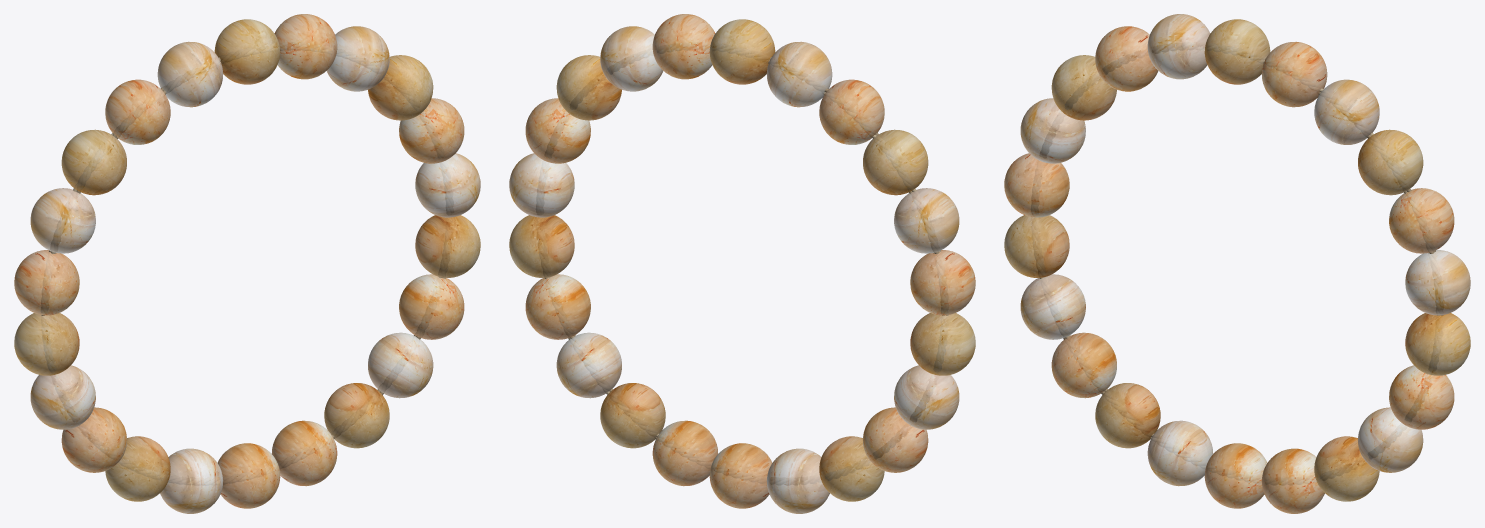
The model's file is citrine.glb.
3 renders of one model, left to right at view 1: azimuth 30°, elevation 25°; view 2: azimuth 150°, elevation 25°; view 3: azimuth 330°, elevation 25°, orthographic.
Parts seen in each view (by area): view 1: Braided thread, 10 yellow, 8 yellow, 9 yellow, 20 yellow, 21 yellow, 19 yellow, 11 yellow, 7 yellow, 22 yellow, 12 yellow, 6 yellow (+11 smaller); view 2: Braided thread, 10 yellow, 8 yellow, 9 yellow, 20 yellow, 21 yellow, 19 yellow, 11 yellow, 7 yellow, 22 yellow, 12 yellow, 6 yellow (+11 smaller); view 3: Braided thread, 14 yellow, 16 yellow, 15 yellow, 4 yellow, 3 yellow, 5 yellow, 13 yellow, 17 yellow, 2 yellow, 12 yellow, 18 yellow (+11 smaller).
Part boxes in pixels (x1=…): Braided thread: x1=41, y1=42, x2=453, y2=485; 10 yellow: x1=105, y1=79, x2=170, y2=144; 8 yellow: x1=30, y1=188, x2=95, y2=253; 9 yellow: x1=61, y1=129, x2=126, y2=195; 20 yellow: x1=368, y1=332, x2=433, y2=398; 21 yellow: x1=324, y1=383, x2=389, y2=448; 19 yellow: x1=399, y1=274, x2=464, y2=339; 11 yellow: x1=157, y1=41, x2=223, y2=107; 7 yellow: x1=14, y1=250, x2=79, y2=315; 22 yellow: x1=271, y1=420, x2=337, y2=486; 12 yellow: x1=214, y1=19, x2=280, y2=84; 6 yellow: x1=14, y1=313, x2=79, y2=375; Braided thread: x1=536, y1=42, x2=948, y2=485; 10 yellow: x1=819, y1=79, x2=884, y2=144; 8 yellow: x1=894, y1=188, x2=959, y2=253; 9 yellow: x1=863, y1=129, x2=928, y2=195; 20 yellow: x1=556, y1=332, x2=621, y2=398; 21 yellow: x1=600, y1=383, x2=665, y2=448; 19 yellow: x1=525, y1=274, x2=590, y2=339; 11 yellow: x1=766, y1=41, x2=832, y2=107; 7 yellow: x1=910, y1=250, x2=975, y2=315; 22 yellow: x1=652, y1=420, x2=718, y2=486; 12 yellow: x1=709, y1=19, x2=775, y2=84; 6 yellow: x1=910, y1=313, x2=975, y2=375; Braided thread: x1=1031, y1=42, x2=1443, y2=485; 14 yellow: x1=1314, y1=79, x2=1379, y2=144; 16 yellow: x1=1389, y1=188, x2=1454, y2=253; 15 yellow: x1=1358, y1=129, x2=1423, y2=195; 4 yellow: x1=1051, y1=332, x2=1116, y2=398; 3 yellow: x1=1095, y1=383, x2=1160, y2=448; 5 yellow: x1=1020, y1=274, x2=1085, y2=339; 13 yellow: x1=1261, y1=41, x2=1327, y2=107; 17 yellow: x1=1405, y1=250, x2=1470, y2=315; 2 yellow: x1=1147, y1=420, x2=1213, y2=486; 12 yellow: x1=1204, y1=19, x2=1270, y2=84; 18 yellow: x1=1405, y1=313, x2=1470, y2=375.
Bounding box in the file's own units: 0.0645 × 0.0651 × 0.008.
4 materials, 3 textured.
